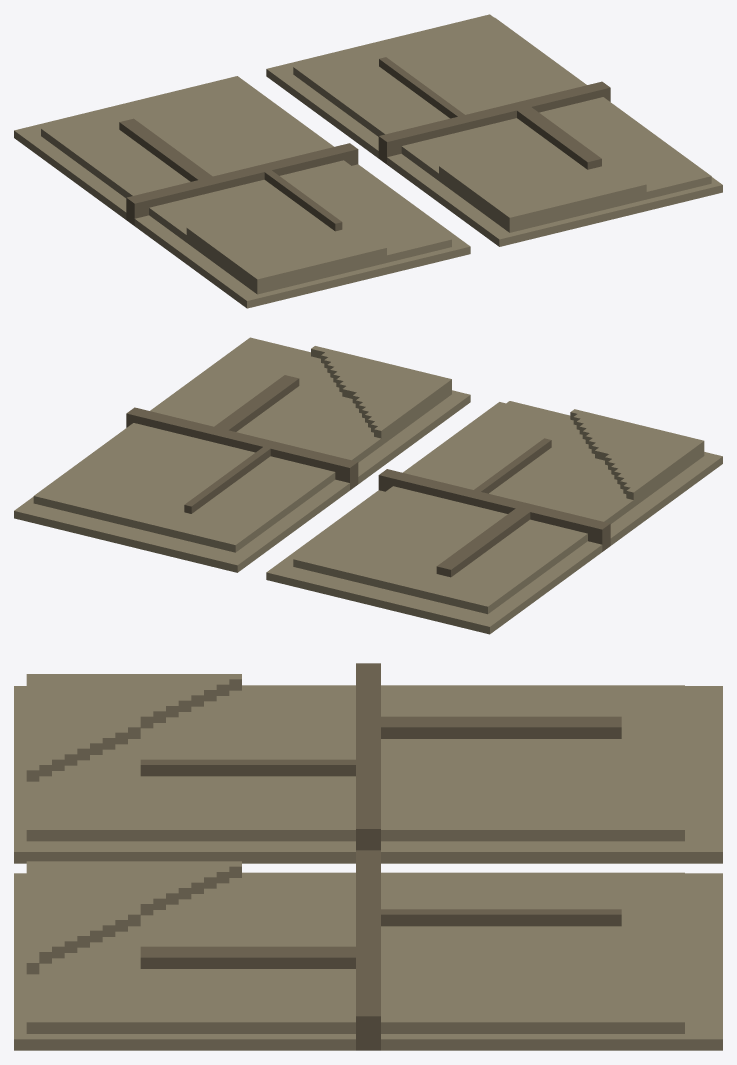
File: footrags.glb
3 views of the same model, one above another, from view 1: azimuth 30°, elevation 25°; view 2: azimuth 150°, elevation 25°; view 3: azimuth 270°, elevation 25° (orthographic). The views are drawn at different scales.
Visible parts, largest first — view 1: footrags:compound; view 2: footrags:compound; view 3: footrags:compound.
Boxes of the visible parts, left/top/right/bottom form: footrags:compound: left=14, top=14, right=722, bottom=308; footrags:compound: left=14, top=337, right=722, bottom=634; footrags:compound: left=14, top=663, right=722, bottom=1050.
Size of the model in its own units: 0.264 by 0.012 by 0.224.
